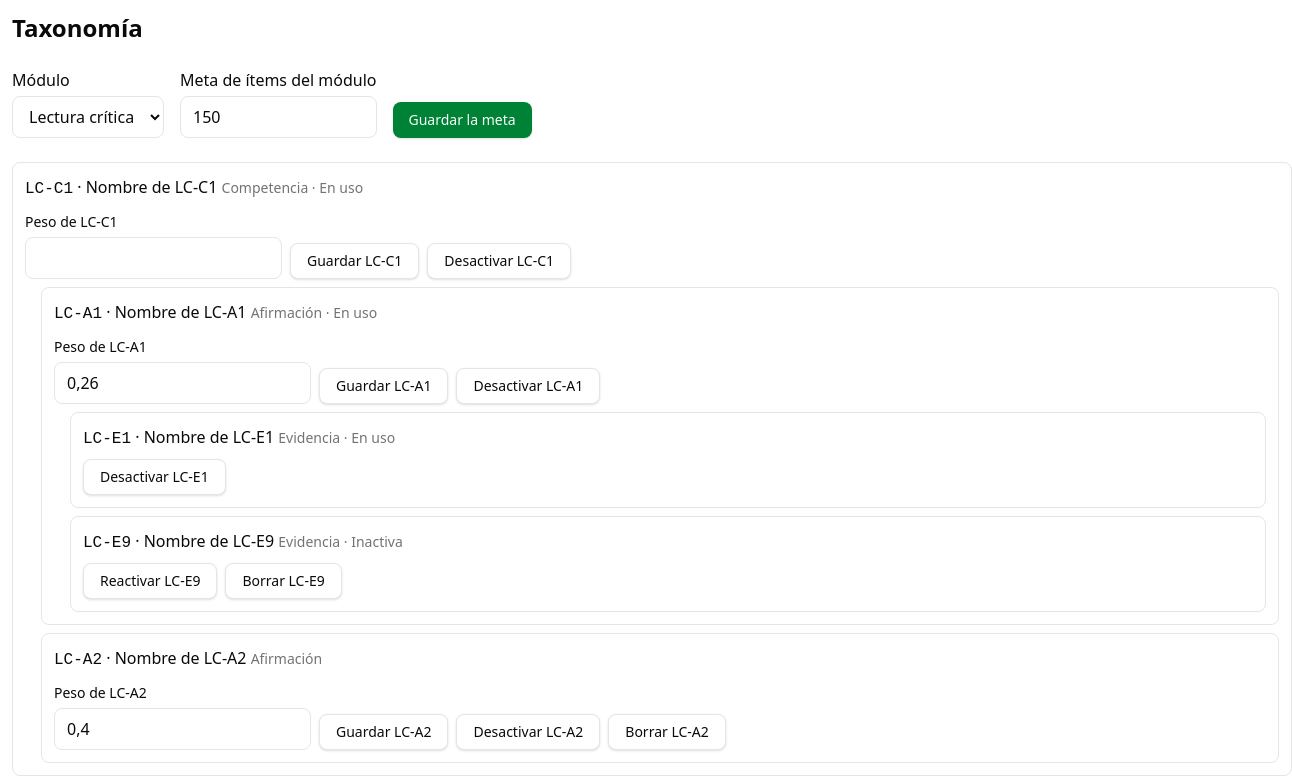
Test: taxonomía › edita el peso y muestra el aviso de la suma
Step 1. Replace the text in the field labelled "Peso de LC-A1" with "0,3" → (182, 383), box [54, 362, 311, 404]
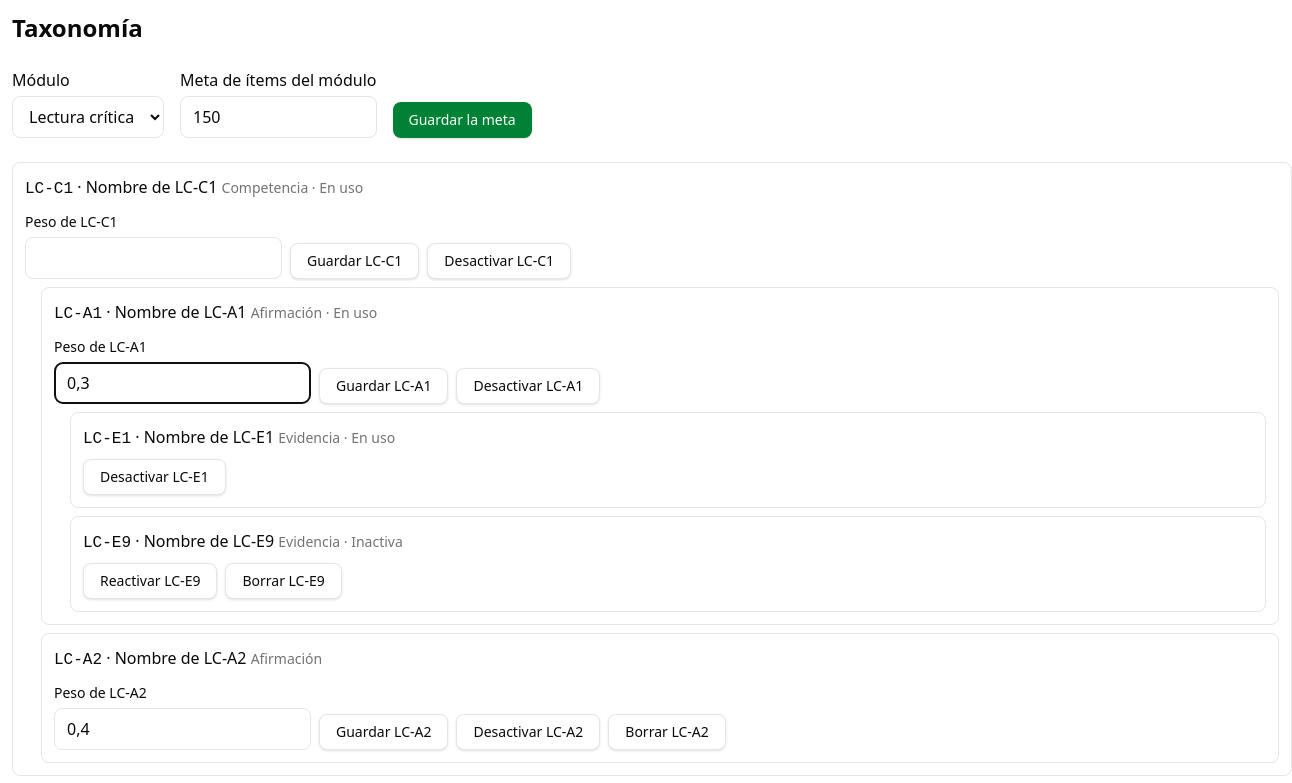
Step 2. Click the button "Guardar LC-A1" → (384, 386), box [319, 368, 448, 404]
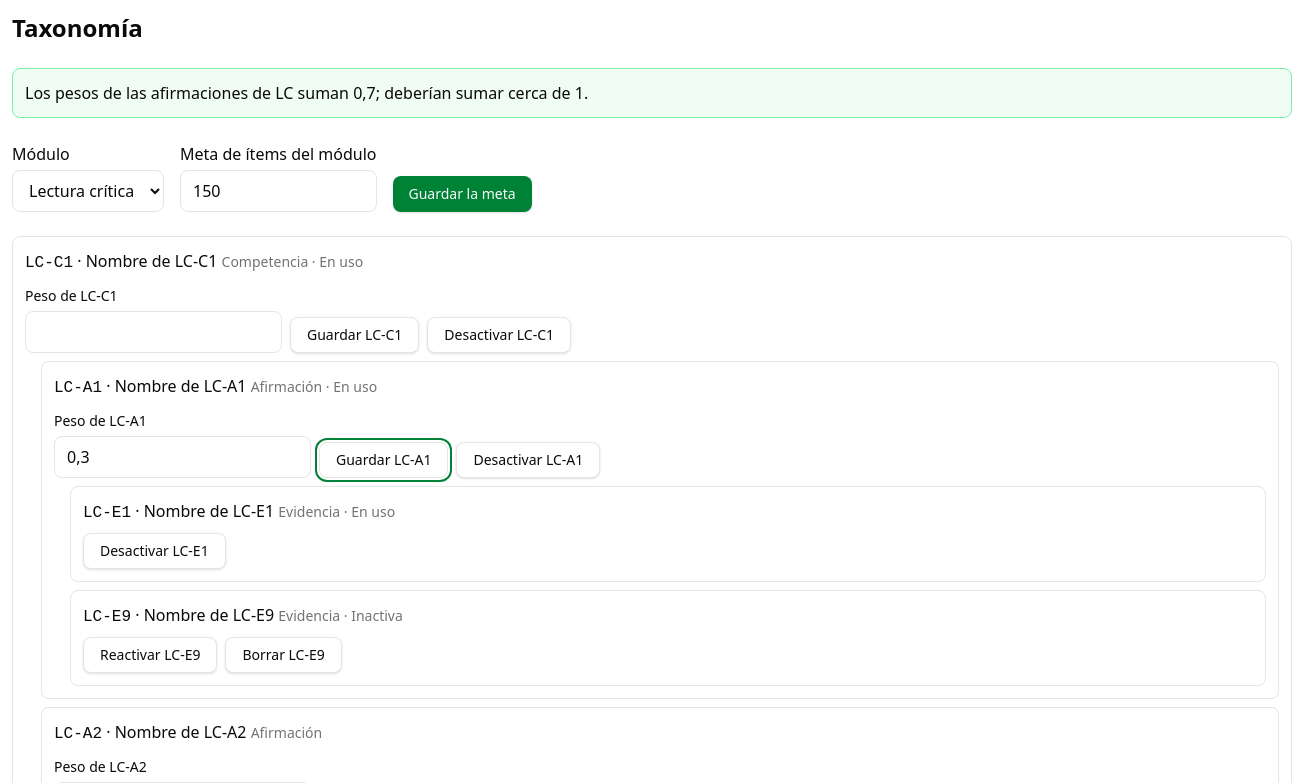
Check: the message reads "Los pesos de las afirmaciones de LC suman 0,7; deberían sumar cerca de 1.", box [25, 82, 588, 104]
